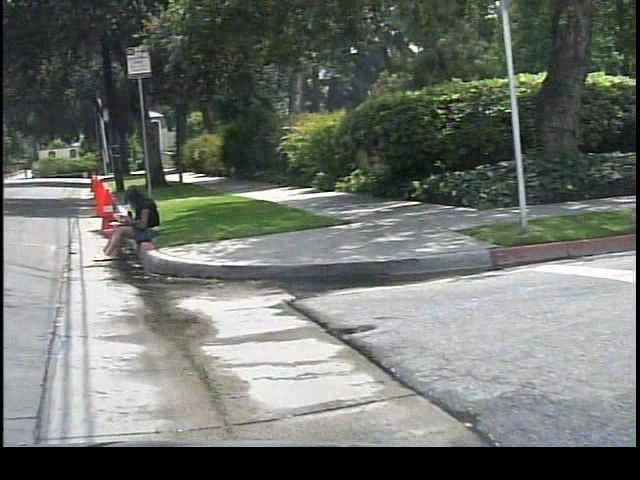person: (87, 184, 166, 265)
